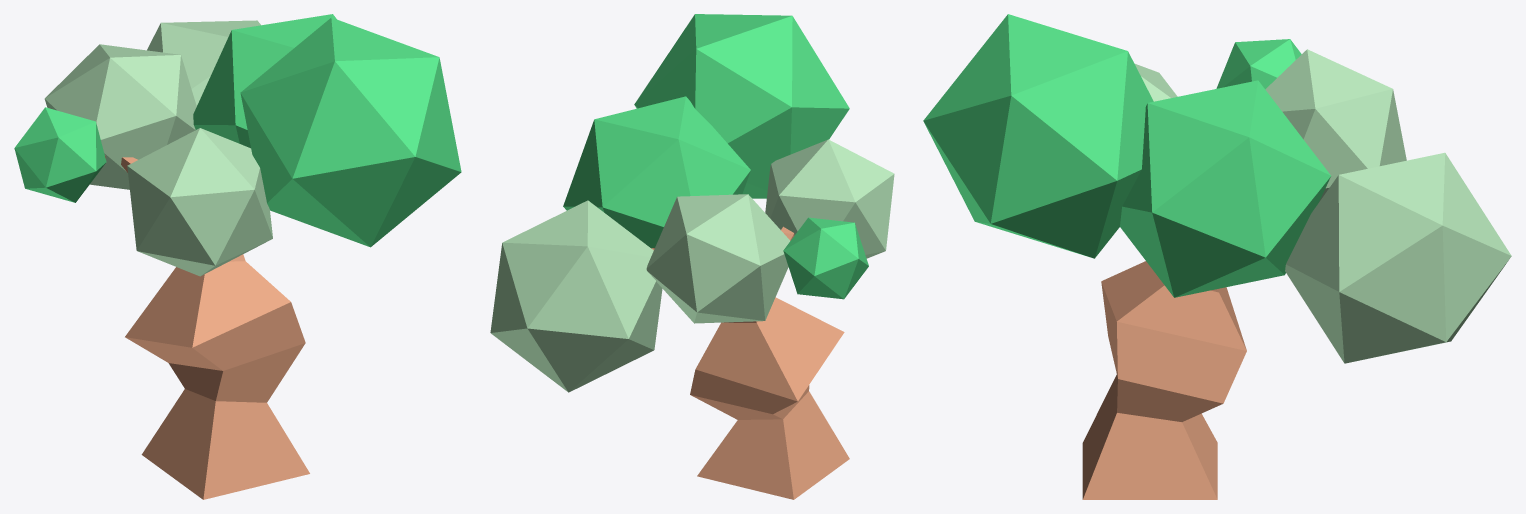
The model's file is Tree.fbx.
3 views of the same model, side by side, from view 1: azimuth 30°, elevation 25°; view 2: azimuth 150°, elevation 25°; view 3: azimuth 270°, elevation 25° (orthographic). The views are drawn at different scales.
Visible parts, largest first — view 1: Leaf 3, Root, Leaf 1, Leaf 6, Leaf 5, Leaf 2, Leaf 4; view 2: Leaf 4, Root, Leaf 3, Leaf 5, Leaf 6, Leaf 1, Leaf 2; view 3: Leaf 3, Leaf 4, Leaf 5, Root, Leaf 6, Leaf 2, Leaf 1.
Boxes of the visible parts, x1,y1,x2,y2 form: Leaf 3: (240, 17, 461, 247); Root: (105, 155, 309, 499); Leaf 1: (127, 128, 272, 276); Leaf 6: (44, 44, 196, 189); Leaf 5: (193, 14, 336, 148); Leaf 2: (14, 107, 106, 202); Leaf 4: (147, 20, 260, 105); Leaf 4: (490, 200, 662, 392); Root: (651, 226, 849, 499); Leaf 3: (634, 14, 849, 198); Leaf 5: (563, 96, 750, 248); Leaf 6: (646, 194, 790, 323); Leaf 1: (765, 139, 894, 258); Leaf 2: (783, 217, 868, 299); Leaf 3: (923, 14, 1153, 258); Leaf 4: (1285, 152, 1511, 363); Leaf 5: (1120, 80, 1330, 297); Root: (1082, 261, 1246, 499); Leaf 6: (1265, 49, 1406, 201); Leaf 2: (1216, 39, 1301, 89); Leaf 1: (1135, 64, 1177, 101).
Size of the model in its own units: 866 by 1080 by 1198.
